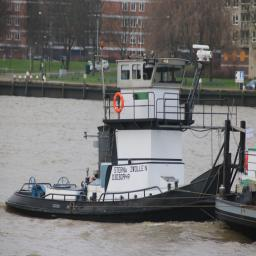tugboat: (5, 42, 250, 229)
